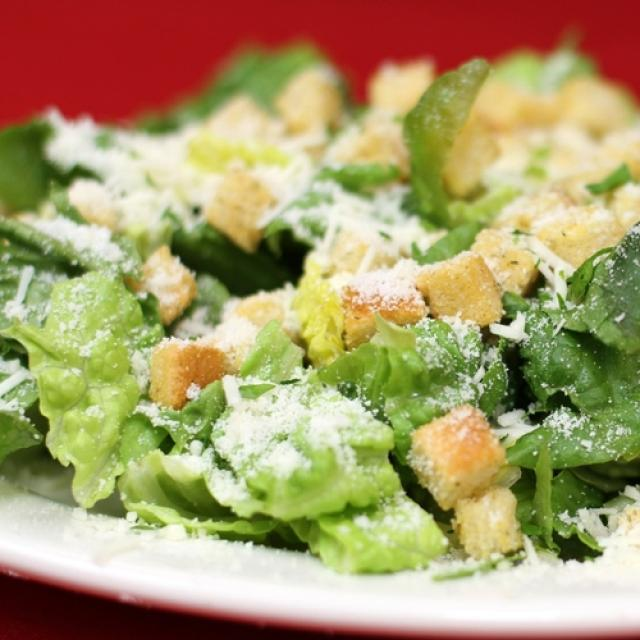蔬菜料理: (8, 40, 616, 623)
